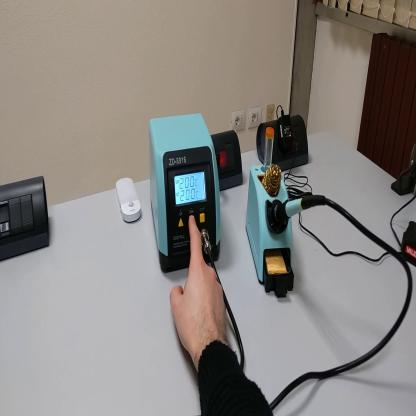electric screwdriver battery: (402, 219, 416, 266)
hand: (169, 214, 229, 359)
socket: (259, 112, 309, 167), (212, 130, 246, 192)
welder base: (244, 123, 296, 304)
welder probe tip: (274, 193, 326, 227)
welder station: (150, 114, 222, 275)
